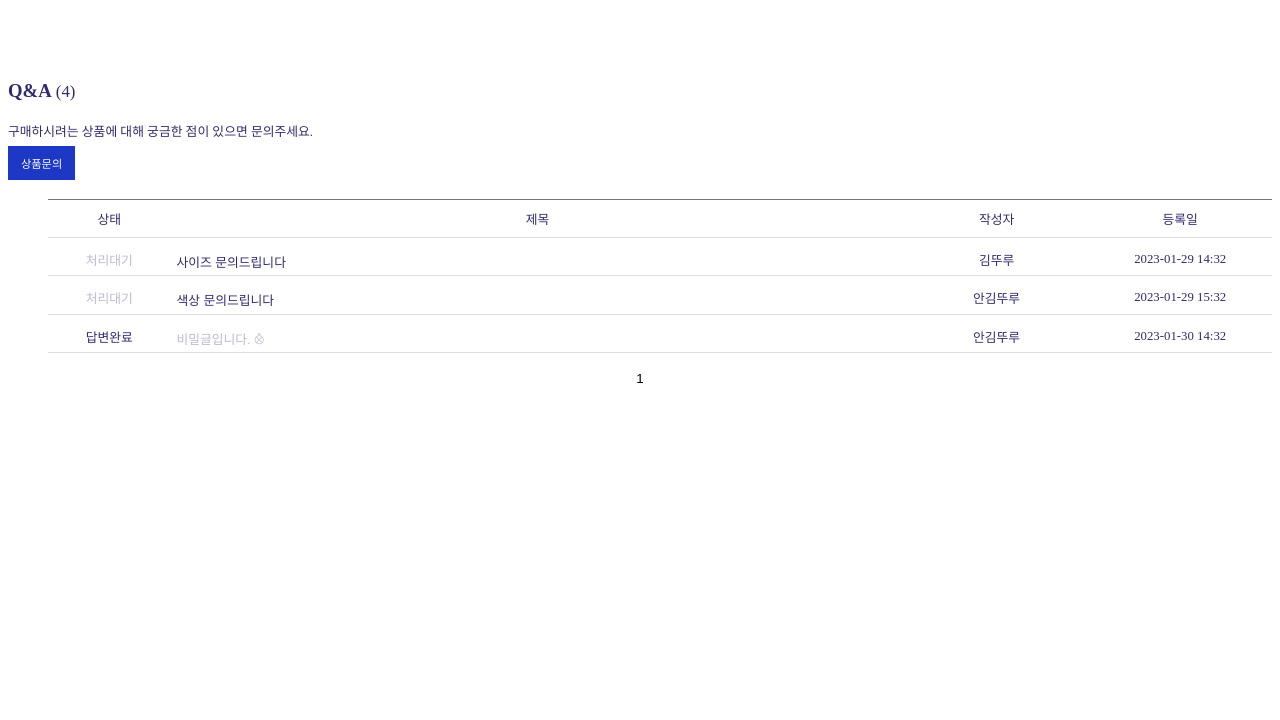
Test: QnASection › 상품문의 클릭 › 내가 작성한 상품문의일 경우 › 문의내용과 수정 및 삭제버튼을 볼 수 있다
Click the button "사이즈 문의드립니다". click: (231, 262)
box: [170,247,905,266]
(page scrolled)
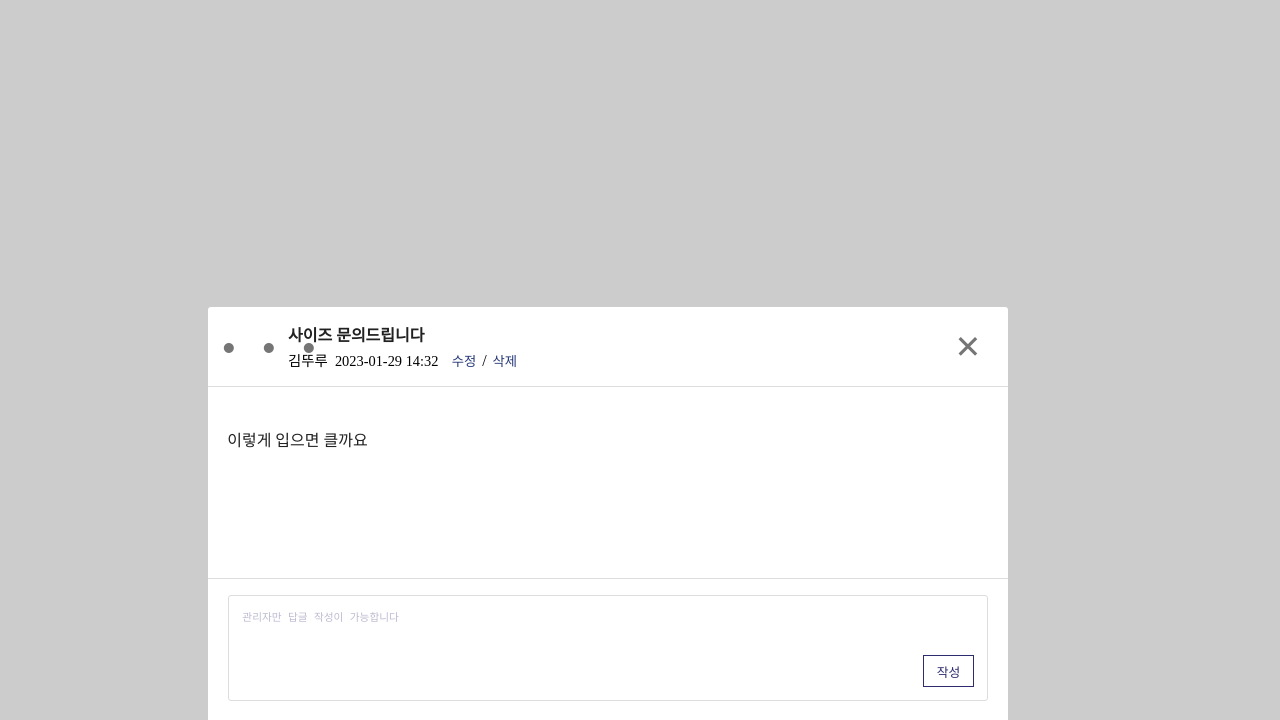
Check: the text "이렇게 입으면 클까요" is shown, box [227,432,368,449]
Check: the button "수정" is shown, box [446,350,482,371]
Check: the button "삭제" is shown, box [487,350,523,371]
